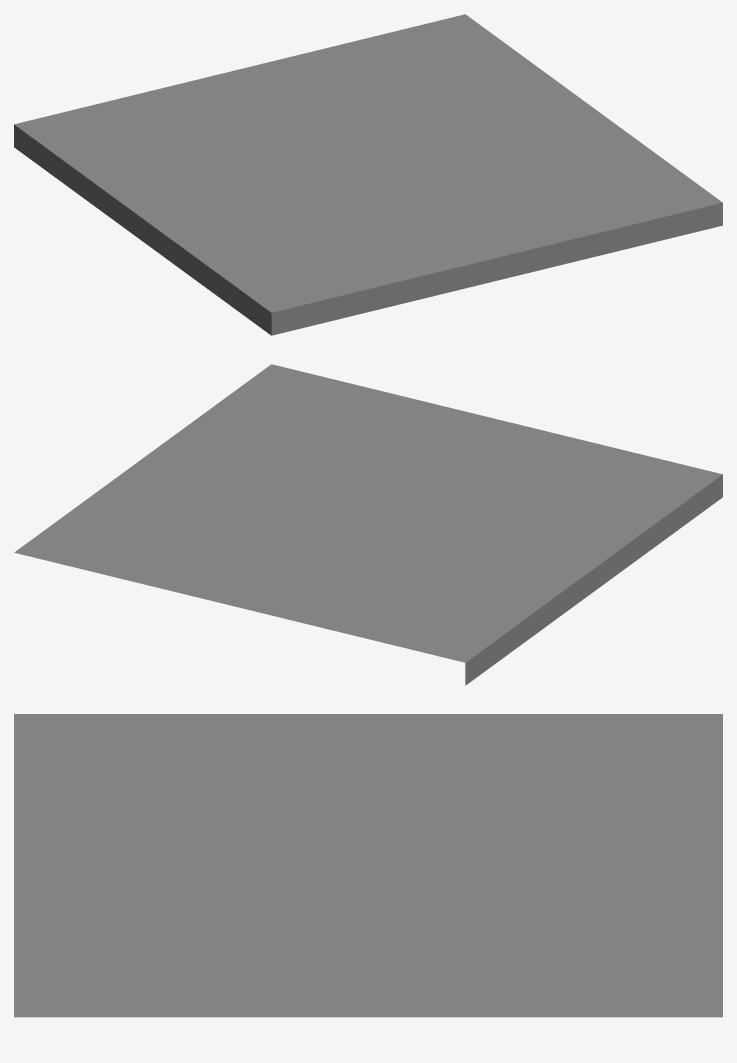
Rendered from case10.gltf.
3 views of the same model, one above another, from view 1: azimuth 30°, elevation 25°; view 2: azimuth 150°, elevation 25°; view 3: azimuth 270°, elevation 25° (orthographic). The views are drawn at different scales.
Parts seen in each view (by area): view 1: a1; view 2: a1; view 3: a1.
Boxes of the visible parts, x1,y1,x2,y2 form: a1: (14,14,722,335); a1: (14,364,722,685); a1: (14,714,722,1017).
Bounding box in the file's own units: 0.5143 × 0.025 × 0.5081.
